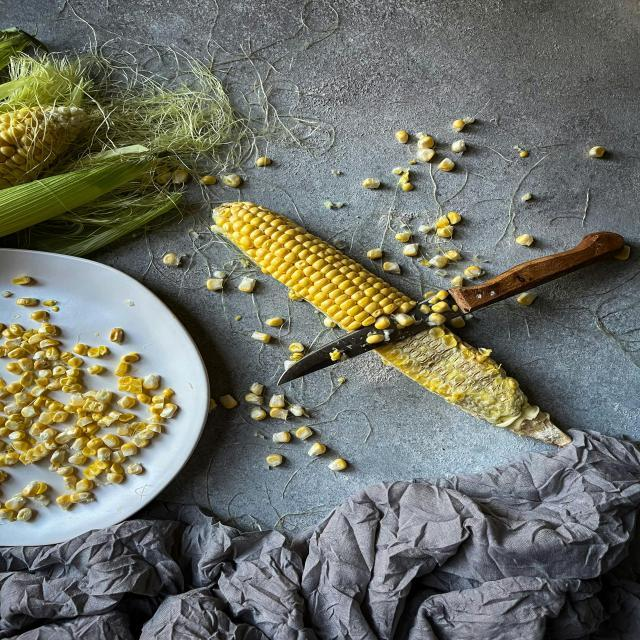knife: (278, 231, 627, 384)
